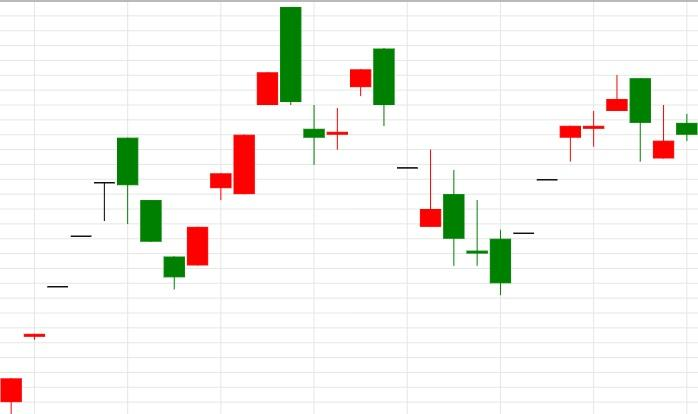bearish_engulfing_fall: (187, 6, 301, 265)
